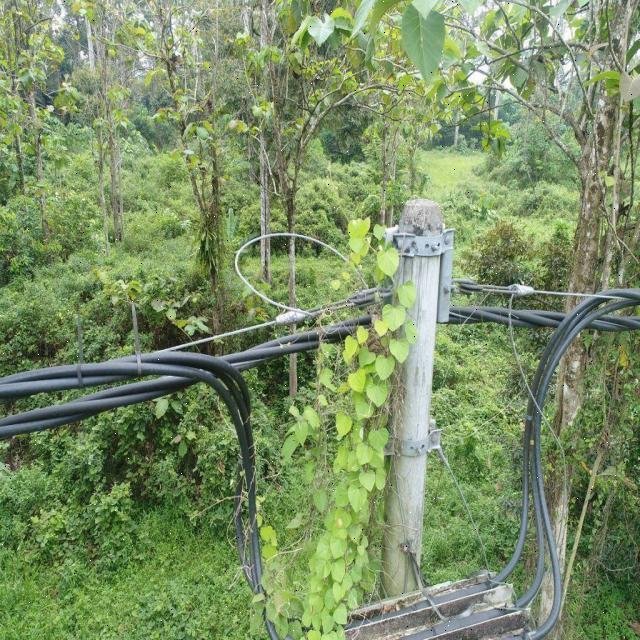critical vegetation: (236, 181, 440, 640)
